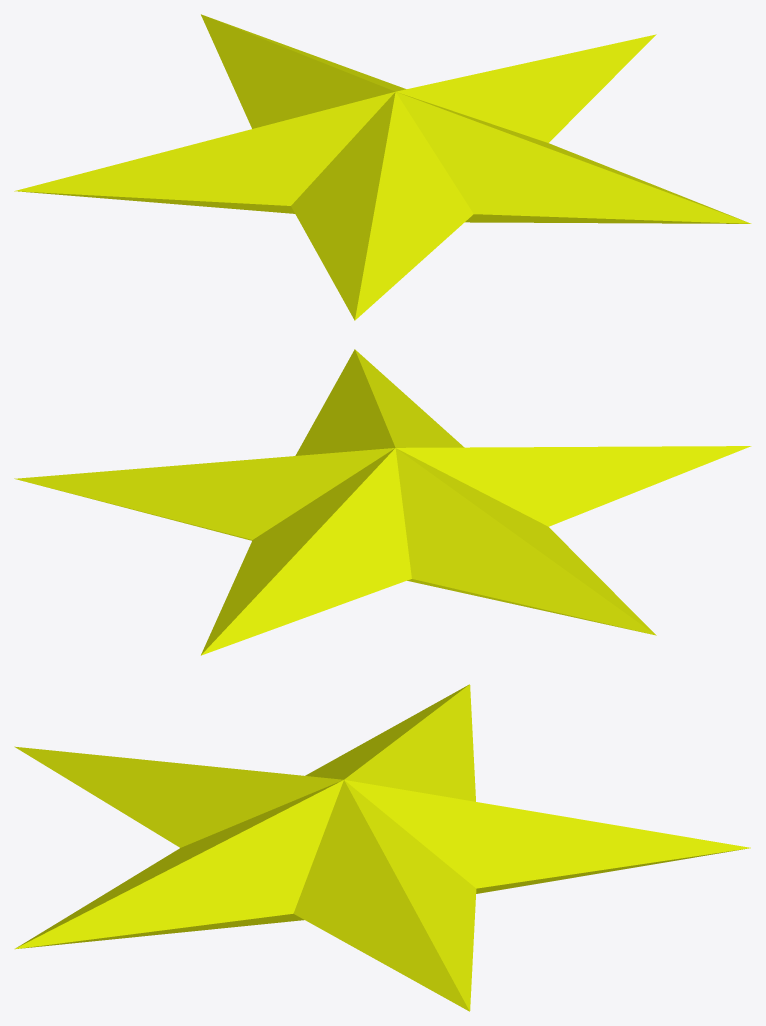
Rendered from Star.glb.
3 renders of one model, top to bottom at view 1: azimuth 30°, elevation 25°; view 2: azimuth 150°, elevation 25°; view 3: azimuth 270°, elevation 25°, orthographic. The views are drawn at different scales.
Visible parts, largest first — view 1: Star; view 2: Star; view 3: Star.
Part boxes in pixels (<box>): Star: <box>14,14,751,320</box>; Star: <box>14,349,751,655</box>; Star: <box>14,684,750,1011</box>.
Bounding box in the file's own units: 1.43 × 0.2777 × 1.36.
